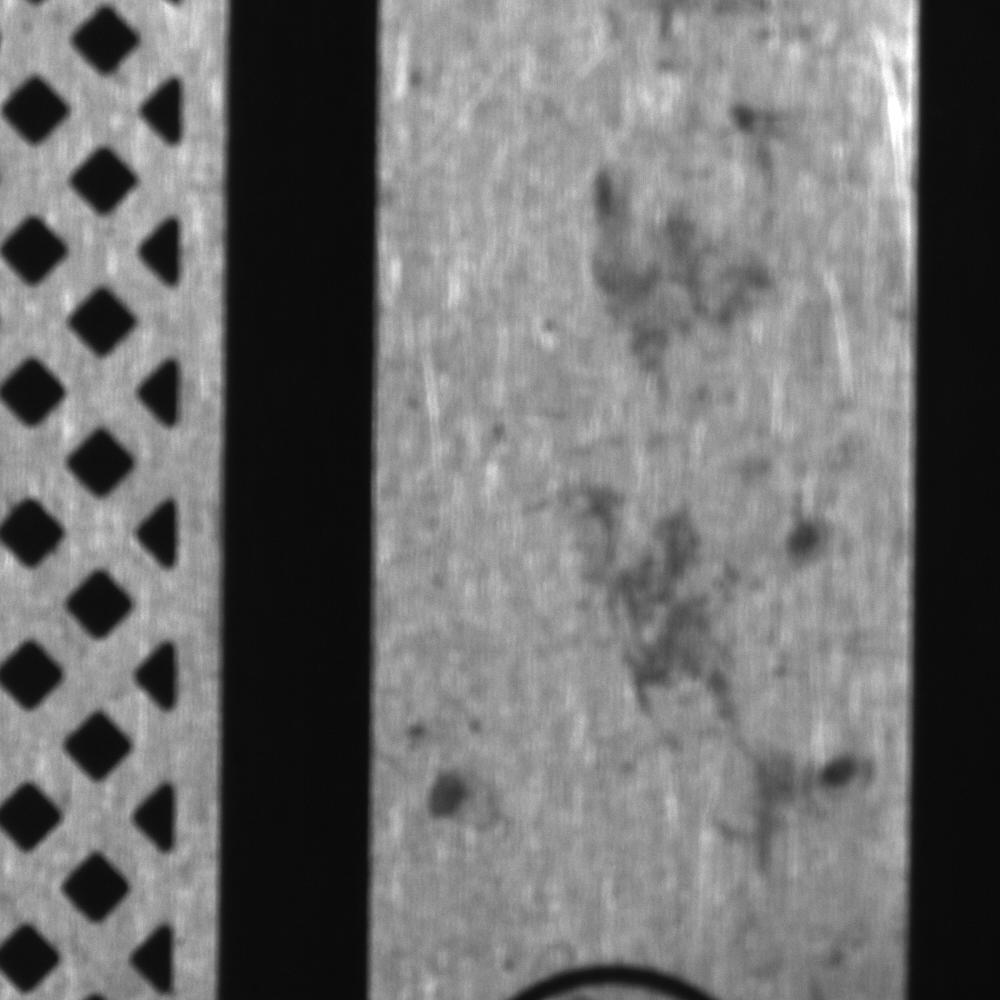Discolor: (515, 427, 892, 830), (563, 151, 836, 392), (594, 1, 854, 140), (389, 683, 510, 853)
